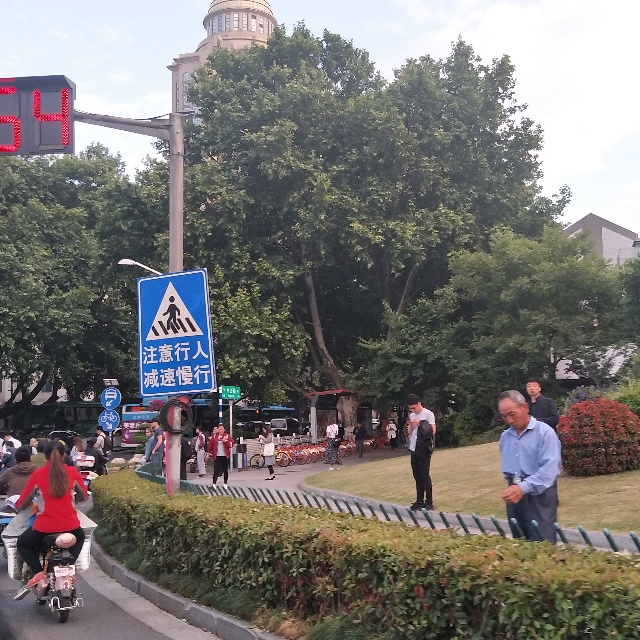crosswalk: (135, 283, 205, 344)
